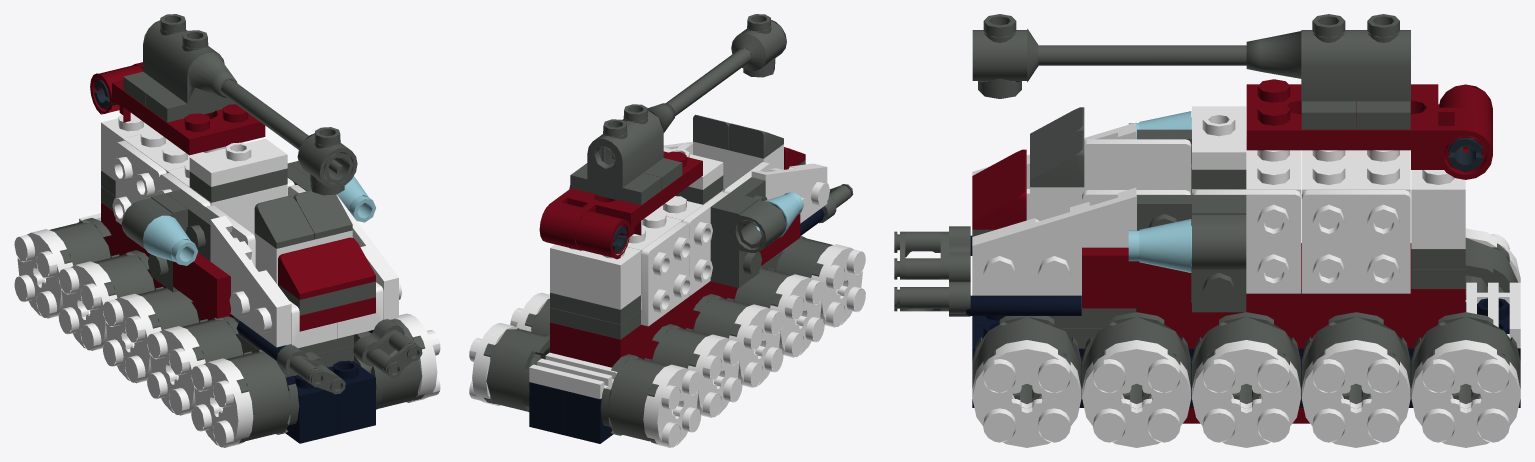
Rendered from tank3_destroyed.glb.
The picture shows the model from 3 angles, left to right: view 1: azimuth 30°, elevation 25°; view 2: azimuth 150°, elevation 25°; view 3: azimuth 270°, elevation 25°; orthographic projection. The views are drawn at different scales.
Visible parts, largest first — view 1: 30359b.dat, 30359b.dat.001, 43723.dat, 4032a.dat.009, 85984.dat, 6143.dat.009, 4032a.dat.008, 4032a.dat.005, 4032a.dat.007, 4032a.dat.006, 3794b.dat, 99207.dat.004 (+33 smaller); view 2: 30359b.dat, 30359b.dat.001, 300401.dat, 44237.dat, 99207.dat.004, 11458.dat.001, 4032a.dat.005, 6143.dat.004, 6143.dat.005, 4032a.dat.008, 4032a.dat.006, 4032a.dat.009 (+26 smaller); view 3: 30359b.dat, 30359b.dat.001, 99207.dat.005, 43722.dat, 44237.dat, 4032a.dat, 4032a.dat.003, 4032a.dat.001, 4032a.dat.004, 4032a.dat.002, 11458.dat, 99207.dat.003 (+33 smaller).
Part boxes in pixels (x1,y1,x2,y2): 30359b.dat: (123,14,357,195); 30359b.dat.001: (90,62,265,155); 43723.dat: (210,216,291,347); 4032a.dat.009: (191,358,253,447); 85984.dat: (278,237,375,299); 6143.dat.009: (226,349,299,443); 4032a.dat.008: (147,326,205,415); 4032a.dat.005: (14,229,73,318); 4032a.dat.007: (103,293,161,383); 4032a.dat.006: (58,261,117,350); 3794b.dat: (189,138,287,186); 99207.dat.004: (112,140,166,224); 30359b.dat: (570,14,786,205); 30359b.dat.001: (539,151,702,259); 300401.dat: (550,244,640,309); 44237.dat: (550,281,737,367); 99207.dat.004: (641,222,692,326); 11458.dat.001: (724,195,786,287); 4032a.dat.005: (643,364,701,447); 6143.dat.004: (483,328,549,411); 6143.dat.005: (600,354,668,443); 4032a.dat.008: (770,274,824,357); 4032a.dat.006: (687,334,742,417); 4032a.dat.009: (811,244,865,327); 30359b.dat: (972,14,1410,129); 30359b.dat.001: (1246,79,1492,179); 99207.dat.005: (1301,190,1410,293); 43722.dat: (972,187,1136,295); 44237.dat: (1137,243,1465,348); 4032a.dat: (972,340,1081,447); 4032a.dat.003: (1301,340,1410,447); 4032a.dat.001: (1082,340,1191,447); 4032a.dat.004: (1411,340,1520,447); 4032a.dat.002: (1192,340,1300,447); 11458.dat: (1192,204,1246,312); 99207.dat.003: (1192,190,1300,293).
Bounding box in the file's own units: 0.5642 × 0.7667 × 1.14.
